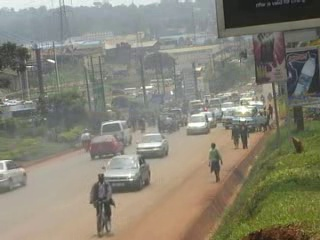Car: (100, 152, 153, 194), (87, 132, 125, 161), (0, 156, 28, 193), (134, 131, 169, 160), (155, 102, 187, 133), (186, 111, 211, 138), (197, 110, 217, 131), (208, 105, 220, 125), (219, 99, 236, 111)
Motorcycle: (79, 125, 91, 152), (164, 114, 174, 135)
